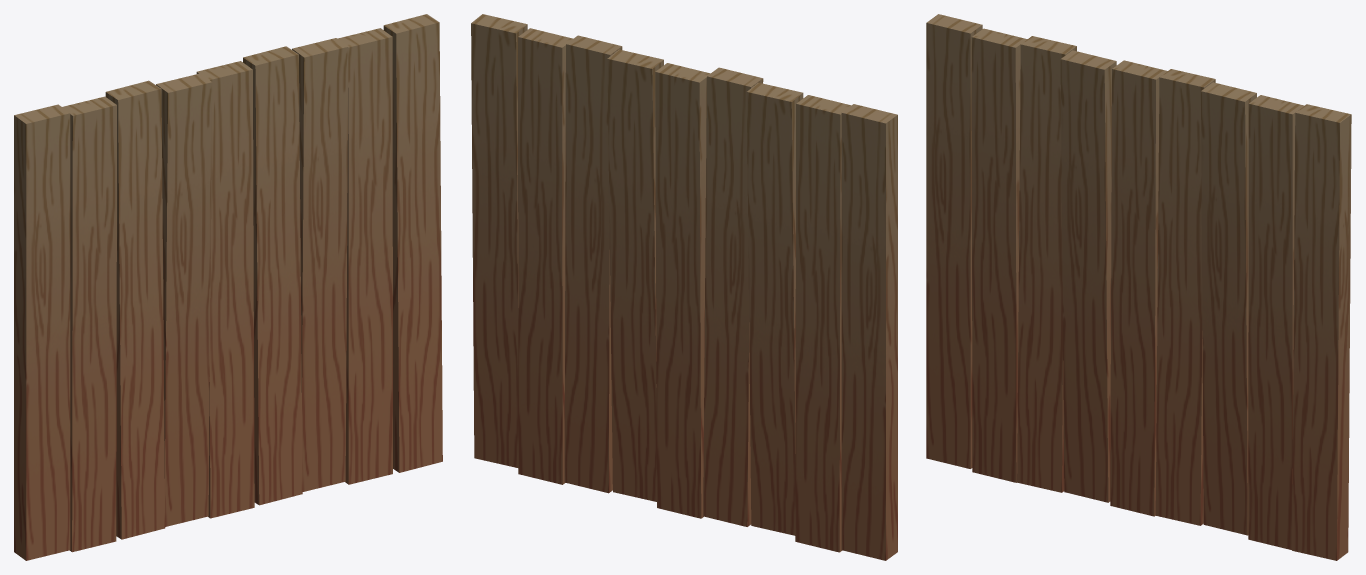
The model's file is Fence.fbx.
The picture shows the model from 3 angles, left to right: view 1: azimuth 30°, elevation 25°; view 2: azimuth 150°, elevation 25°; view 3: azimuth 330°, elevation 25°; orthographic projection.
Visible parts, largest first — view 1: Fence; view 2: Fence; view 3: Fence.
Part boxes in pixels (bbox=[...]): Fence: bbox=[14, 14, 442, 560]; Fence: bbox=[471, 14, 897, 560]; Fence: bbox=[926, 14, 1351, 560].
Size of the model in its own units: 198 by 201 by 15.52.
